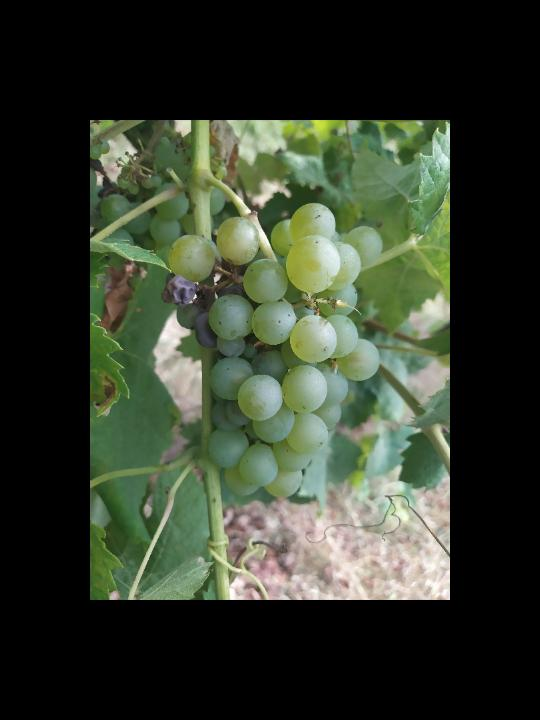grape: (165, 200, 385, 500)
